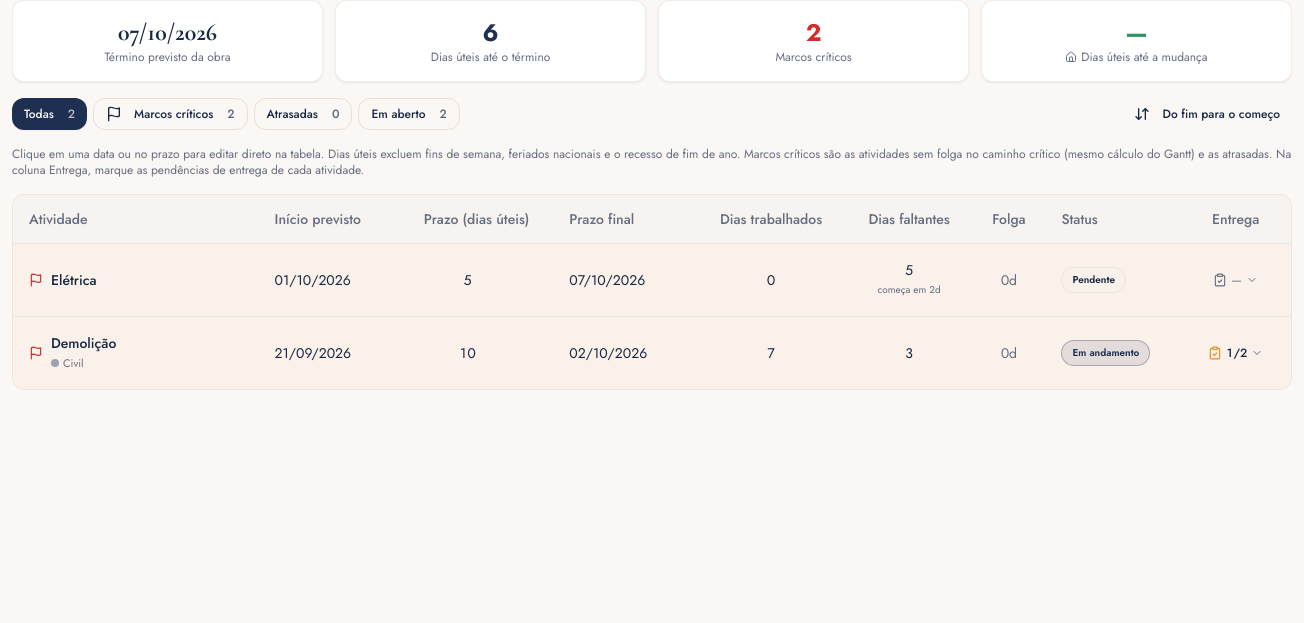
Scenario: Cronograma Reverso › checklist de entrega fica na linha da atividade: contagem, marcar e adicionar
Later steps or results of the test are not shown.
Expected: the column heading "Entrega" is shown, [1180, 195, 1291, 243]
Expected: the button with test id "checklist-toggle-a2" reads "—", [1207, 268, 1264, 292]
Click the button with test id "checklist-toggle-a1". click: (1236, 352)
box: [1202, 340, 1269, 364]
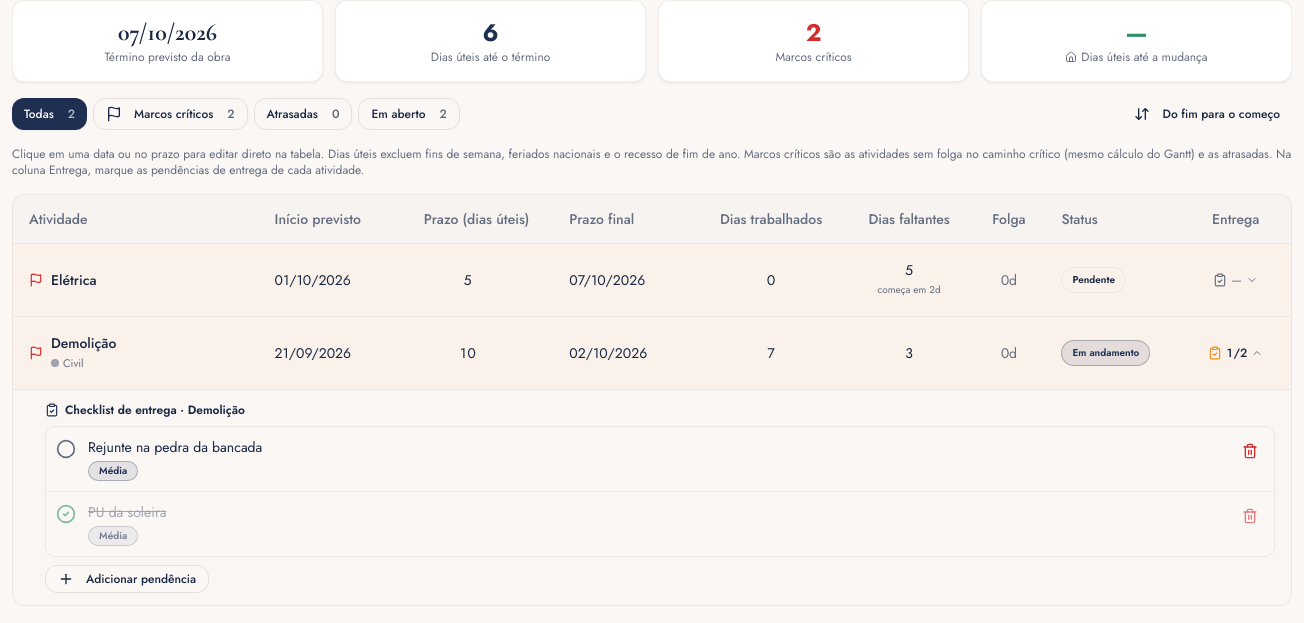
Expected: the row with test id "checklist-row-a1" shows "Rejunte na pedra da bancada", [88, 436, 262, 456]
